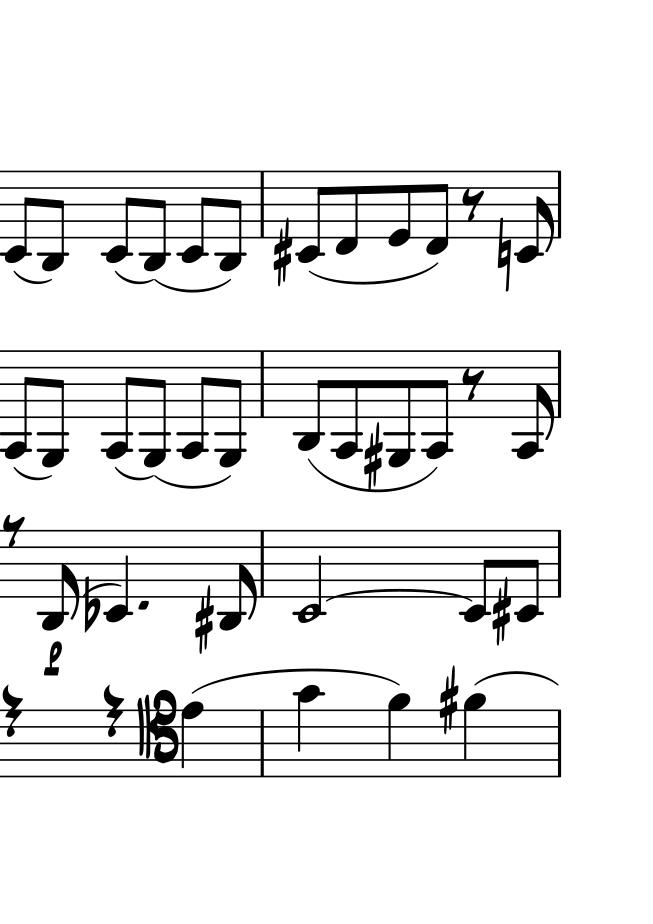2_-2: (295, 529, 324, 624)
4_-2: (103, 528, 131, 624)
4_8: (180, 702, 204, 775)
4_9: (461, 692, 486, 779), (386, 691, 410, 778)
8_-1: (425, 170, 451, 258), (335, 170, 361, 257)
8_-2: (514, 168, 555, 265), (294, 168, 329, 264), (459, 529, 492, 628), (179, 169, 212, 263), (103, 171, 136, 262), (3, 170, 34, 263), (514, 528, 543, 623)
8_-3: (40, 530, 81, 631), (218, 530, 259, 631), (294, 352, 327, 453), (39, 169, 66, 272), (141, 170, 168, 271), (218, 170, 243, 275)
8_-4: (512, 350, 554, 461), (100, 348, 136, 459), (3, 347, 34, 464), (330, 348, 362, 461), (179, 348, 211, 460), (423, 348, 452, 459)
8_-5: (216, 348, 248, 468), (39, 350, 71, 468), (139, 349, 170, 470), (385, 349, 415, 469)
8_0: (386, 169, 413, 249)
8_10: (295, 684, 322, 778)
Flat: (83, 577, 99, 634)
Natural: (496, 222, 512, 291)
Rests4: (102, 684, 125, 738), (1, 685, 24, 738)
Rests8: (1, 513, 27, 547), (461, 367, 486, 402), (461, 188, 485, 223)
Sharp: (437, 667, 460, 732), (490, 582, 512, 646), (193, 593, 215, 655), (272, 224, 292, 287), (363, 428, 383, 490)
Single_barline: (551, 350, 567, 418), (552, 710, 567, 777), (255, 350, 270, 417), (552, 531, 566, 599), (552, 171, 566, 237), (256, 530, 270, 596), (255, 711, 269, 775), (255, 175, 269, 237)
Slur: (191, 665, 405, 694), (307, 460, 440, 493), (308, 263, 439, 286), (328, 587, 475, 602), (471, 669, 559, 686), (153, 278, 231, 294), (151, 476, 230, 489), (116, 464, 152, 480), (13, 269, 51, 284), (14, 465, 52, 480), (114, 269, 151, 284), (79, 582, 123, 594)
Tensor_Cclef: (137, 689, 178, 780)
dot: (135, 597, 156, 615)
p: (42, 640, 66, 677)
